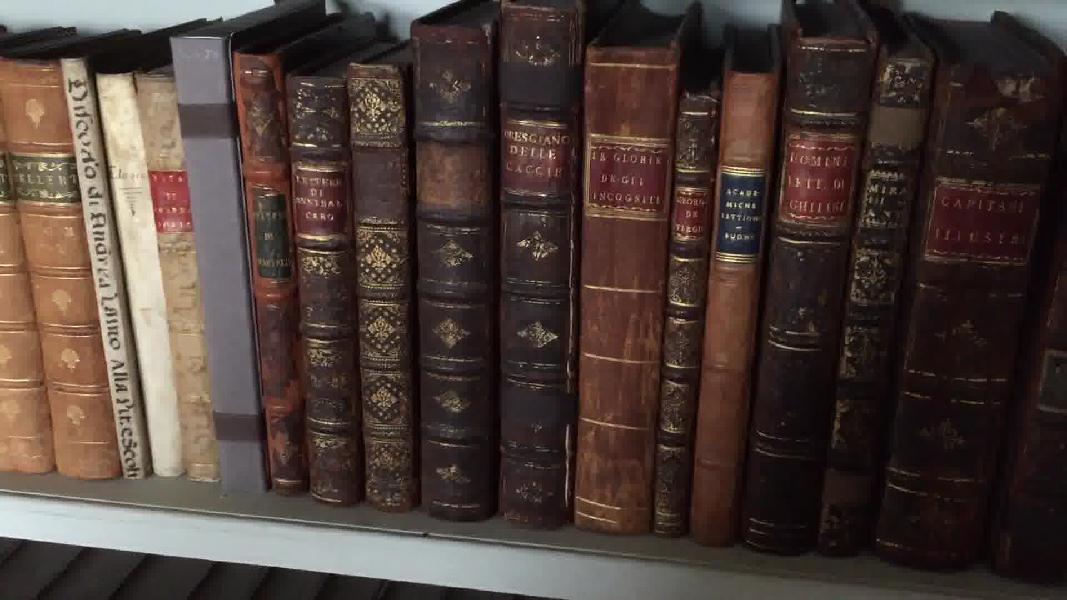Aa6-24: (51, 38, 152, 486)
Aa6-25: (89, 57, 206, 489)
Aa6-26: (129, 67, 216, 489)
Aa6-27: (156, 25, 271, 498)
Aa6-28: (228, 46, 312, 505)
Aa6-29: (281, 75, 359, 513)
Aa6-30: (346, 62, 415, 540)
Aa6-31: (406, 15, 501, 527)
Aa6-32: (494, 5, 586, 532)
Aa6-33: (577, 36, 665, 531)
Aa6-34: (655, 70, 708, 531)
Aa6-35: (683, 51, 783, 549)
Aa6-36: (733, 19, 862, 566)
Aa6-37: (812, 15, 923, 562)
Aa6-38: (883, 29, 1056, 588)
